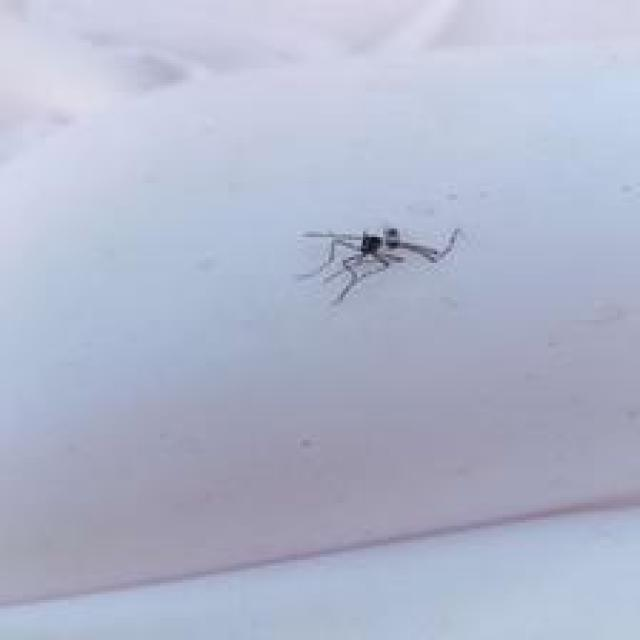Aedes albopictus: (296, 224, 461, 304)
